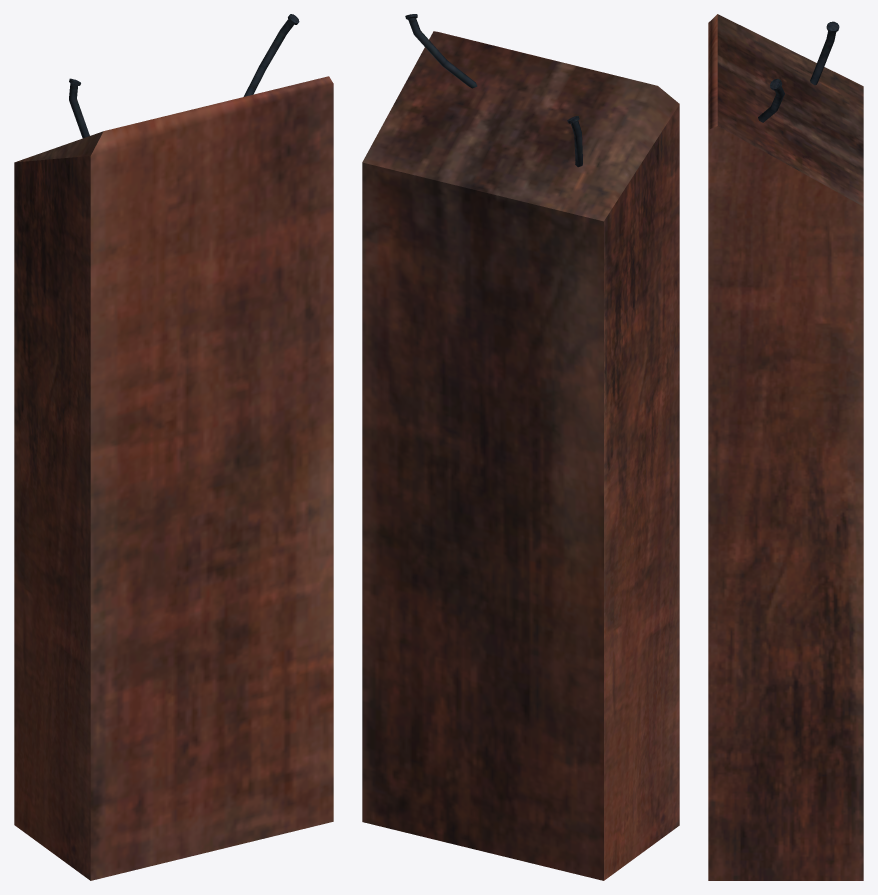
Rendered from table_waitroom_damaged_leg01.dae.
3 renders of one model, left to right at view 1: azimuth 30°, elevation 25°; view 2: azimuth 150°, elevation 25°; view 3: azimuth 270°, elevation 25°, orthographic. The views are drawn at different scales.
Visible parts, largest first — view 1: polySurface289; view 2: polySurface289; view 3: polySurface289.
Part boxes in pixels (box(x1,y1,x2,y2)): polySurface289: box(14, 14, 333, 880); polySurface289: box(362, 14, 679, 880); polySurface289: box(708, 14, 863, 880).
Bounding box in the file's own units: 23.72 × 73.15 × 12.9.
